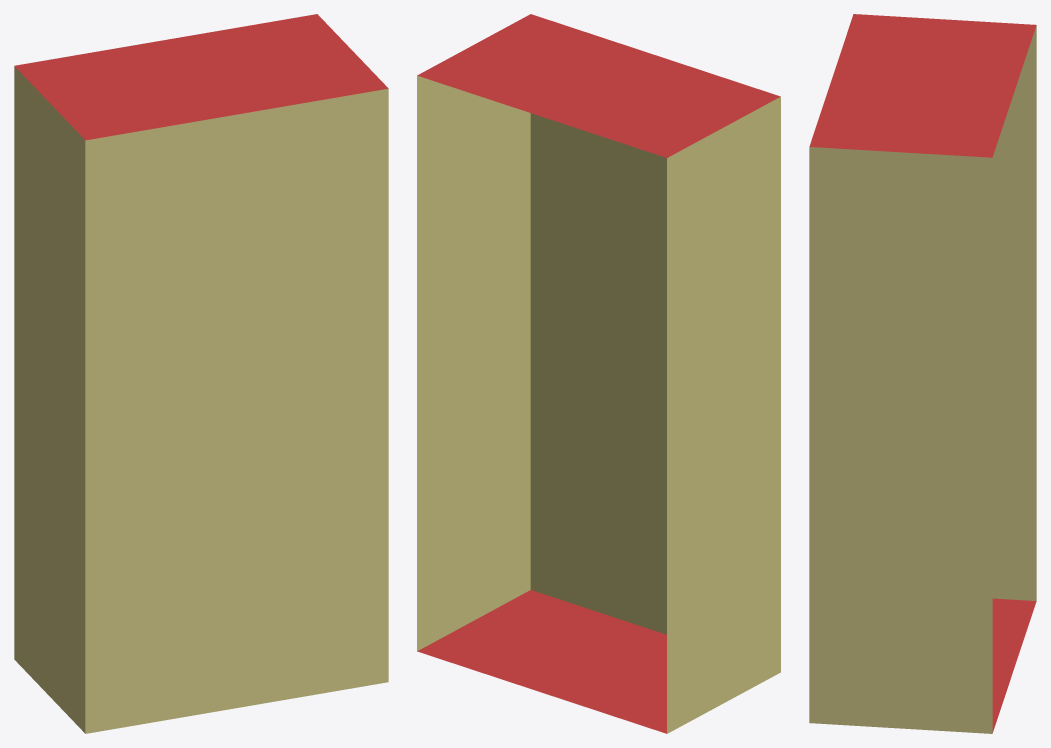
3 renders of one model, left to right at view 1: azimuth 30°, elevation 25°; view 2: azimuth 150°, elevation 25°; view 3: azimuth 270°, elevation 25°, orthographic. The views are drawn at different scales.
Size of the model in its own units: 6.63 by 4.43 by 12.39.
